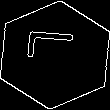L_E: (26, 37, 84, 73)
